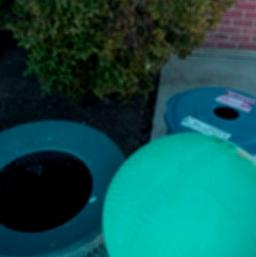algae: (99, 128, 256, 257)
